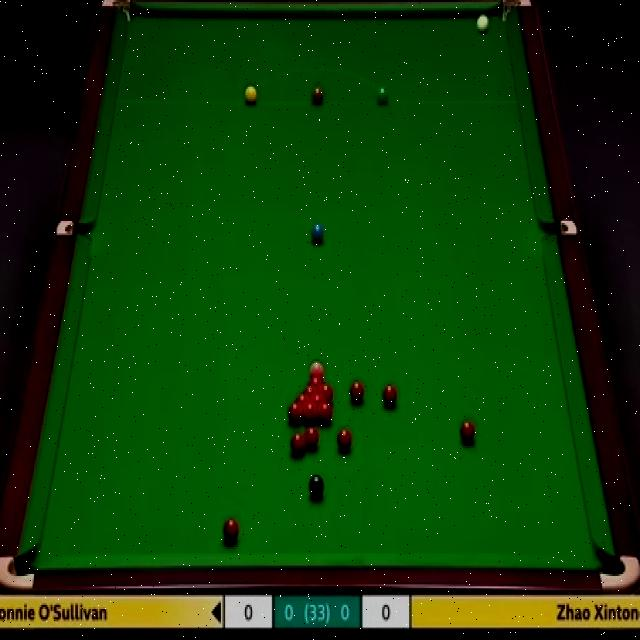blue-ball: (310, 221, 324, 247)
brown-ball: (310, 85, 324, 104)
green-ball: (376, 85, 390, 104)
pink-ball: (308, 360, 324, 377)
red-ball: (222, 518, 241, 546), (302, 426, 320, 452), (335, 428, 353, 450), (348, 380, 366, 402), (460, 420, 476, 442), (288, 402, 304, 424), (381, 383, 396, 405), (290, 433, 305, 454), (318, 402, 332, 423), (316, 386, 333, 403), (308, 377, 324, 395), (294, 393, 310, 410), (301, 386, 318, 402), (310, 394, 325, 409), (304, 404, 316, 421)
white-ball: (475, 12, 491, 35)
yellow-ball: (244, 85, 258, 104)
